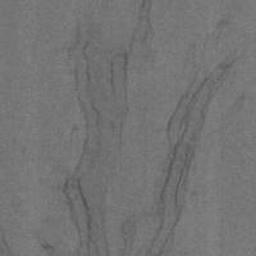Water spot: (0, 0, 156, 256), (118, 18, 247, 256), (232, 88, 248, 111), (168, 0, 175, 8)
